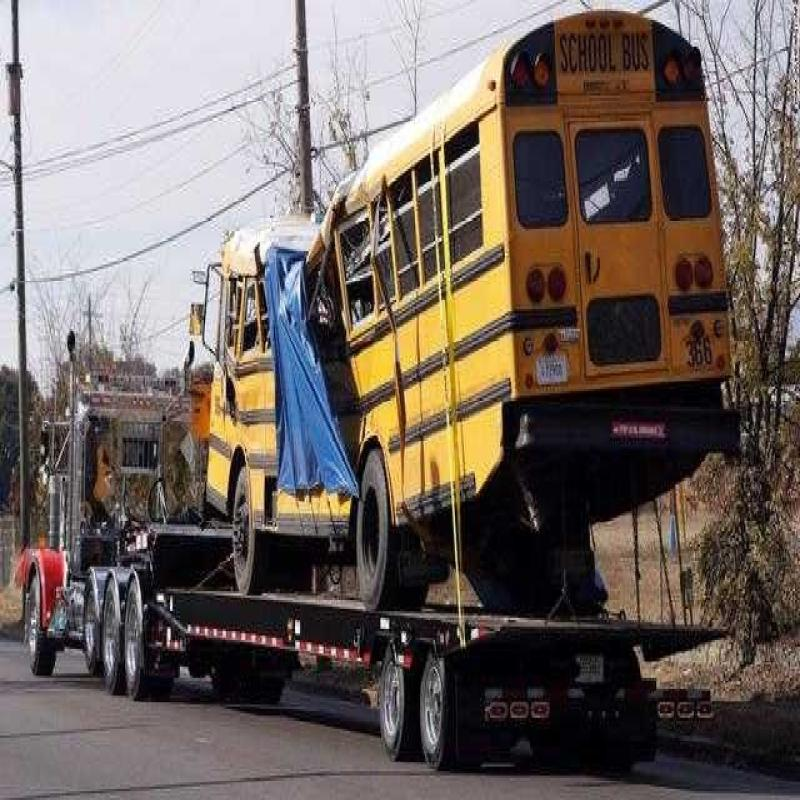bus: (201, 29, 736, 572)
